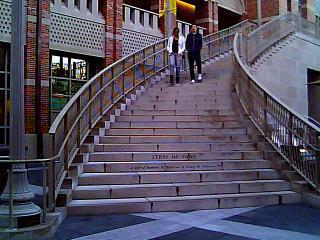Escaleras: (64, 75, 294, 214), (167, 28, 289, 74)
